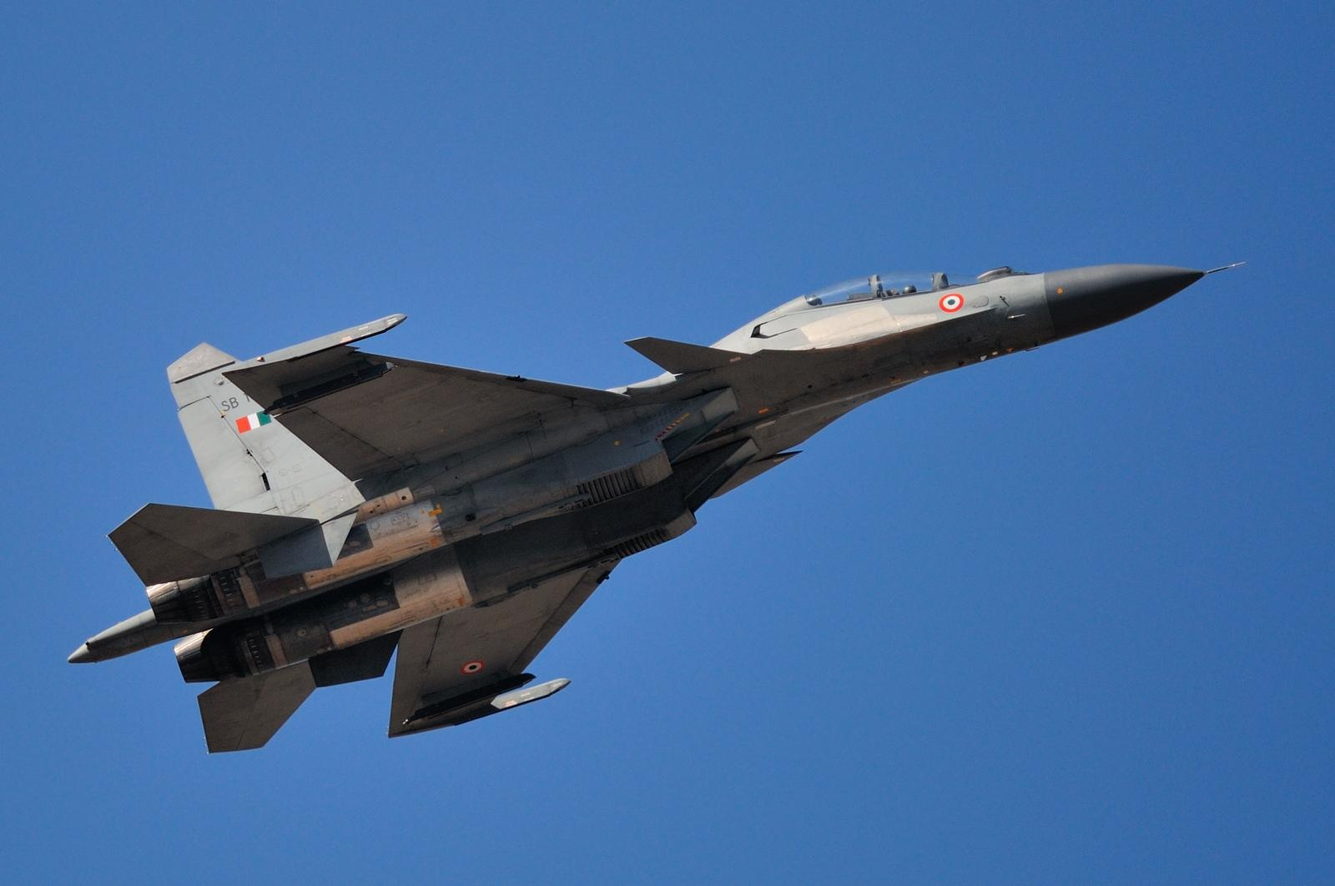aircraft: (62, 250, 1207, 752)
